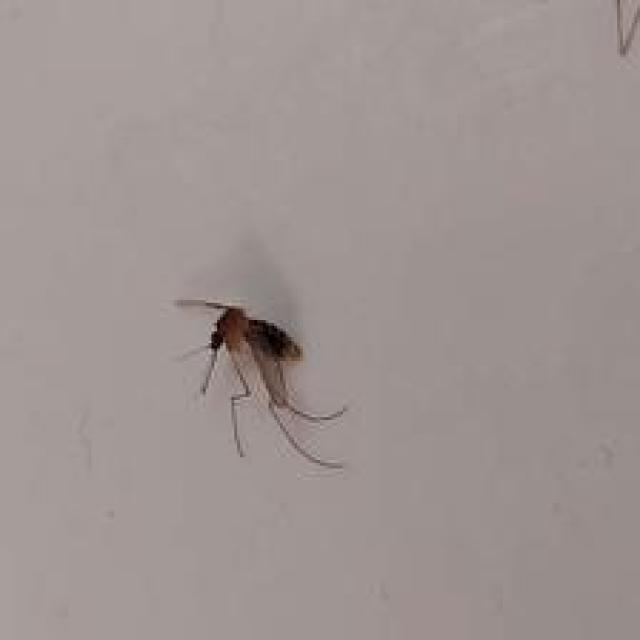Culex: (173, 296, 350, 470)
